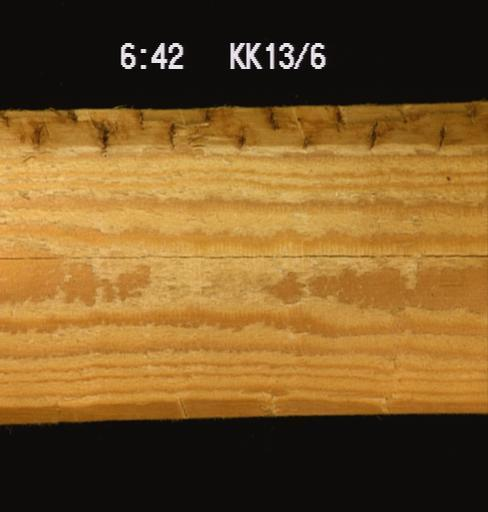split: (0, 228, 486, 272)
wave: (0, 102, 482, 155), (1, 395, 487, 431)
